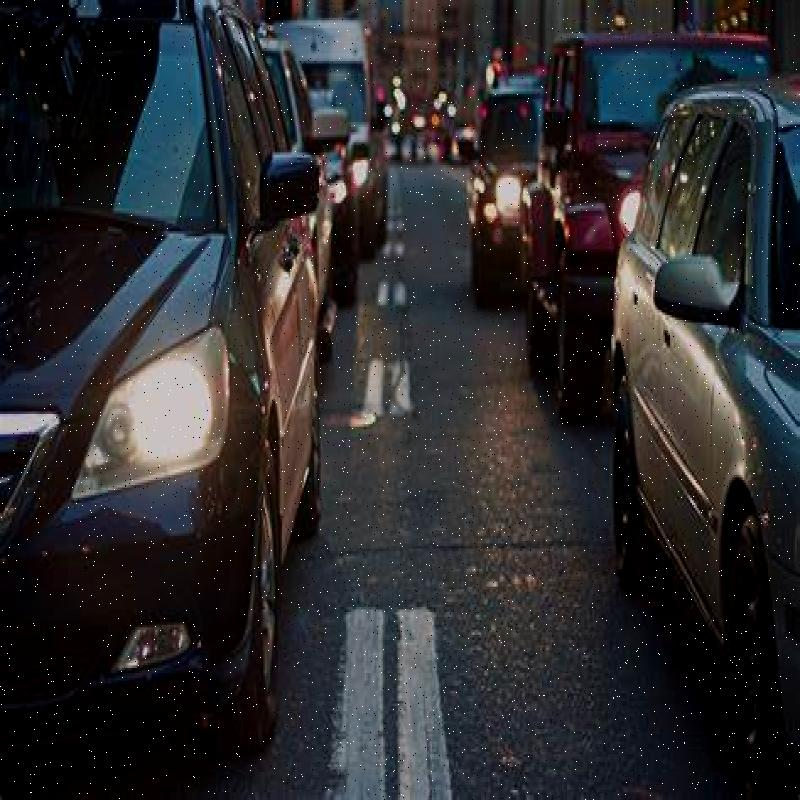car: (24, 14, 297, 792), (634, 100, 800, 673), (538, 15, 754, 293), (468, 79, 540, 311)
